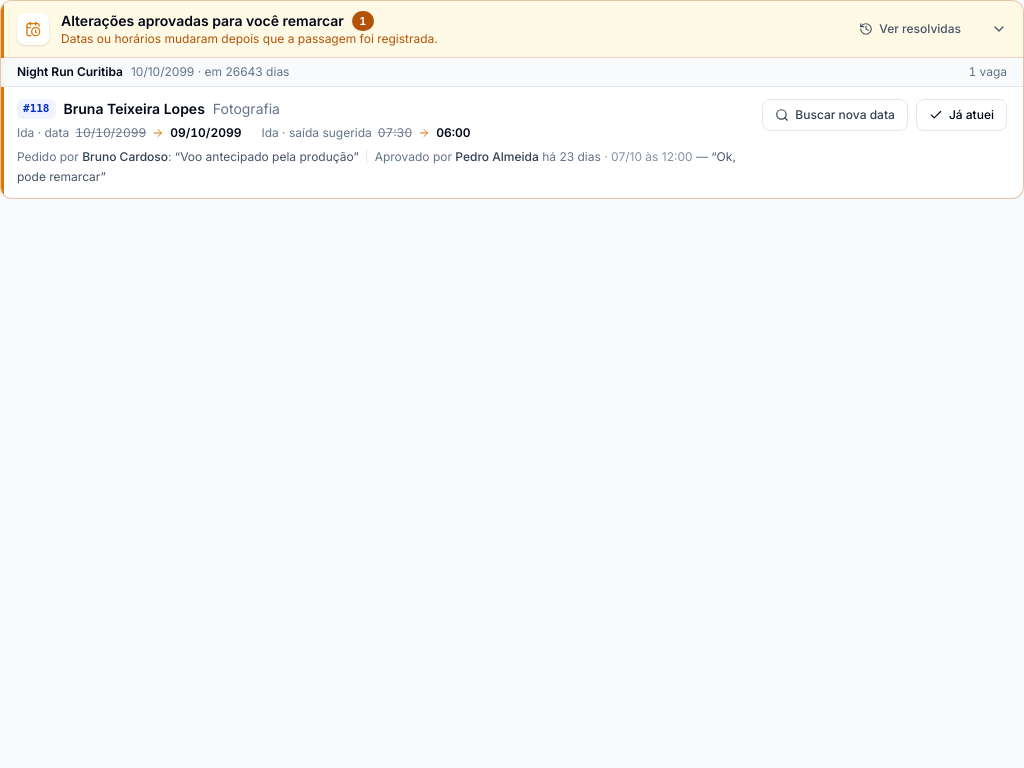
Test: BlocoDeAvisos (passagem) › 'Já atuei' com 409: mostra a mensagem do servidor (quem resolveu antes) e refaz a lista
This screenshot has width=1024, height=768.
What coordinates should you click on to do the following:
click the button "Já atuei"
I would click on:
 (961, 115)
Its box is [916,99,1007,131].
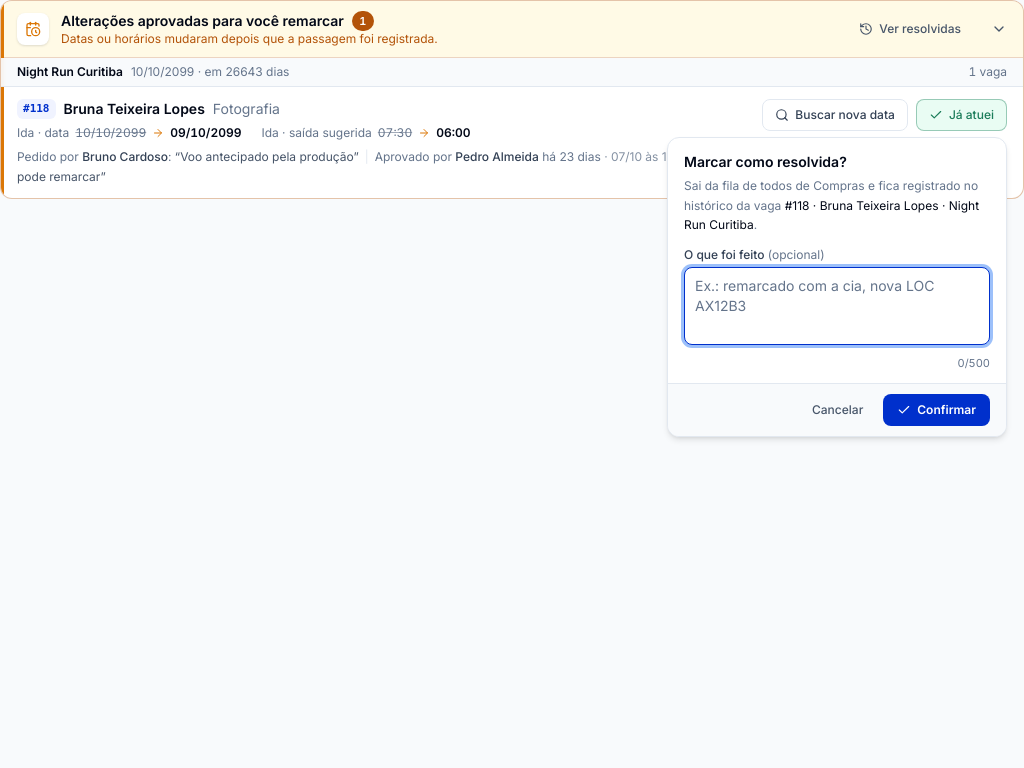
What coordinates should you click on to do the following:
click the button "Confirmar"
I would click on:
 (937, 410)
Its box is [883,394,990,426].
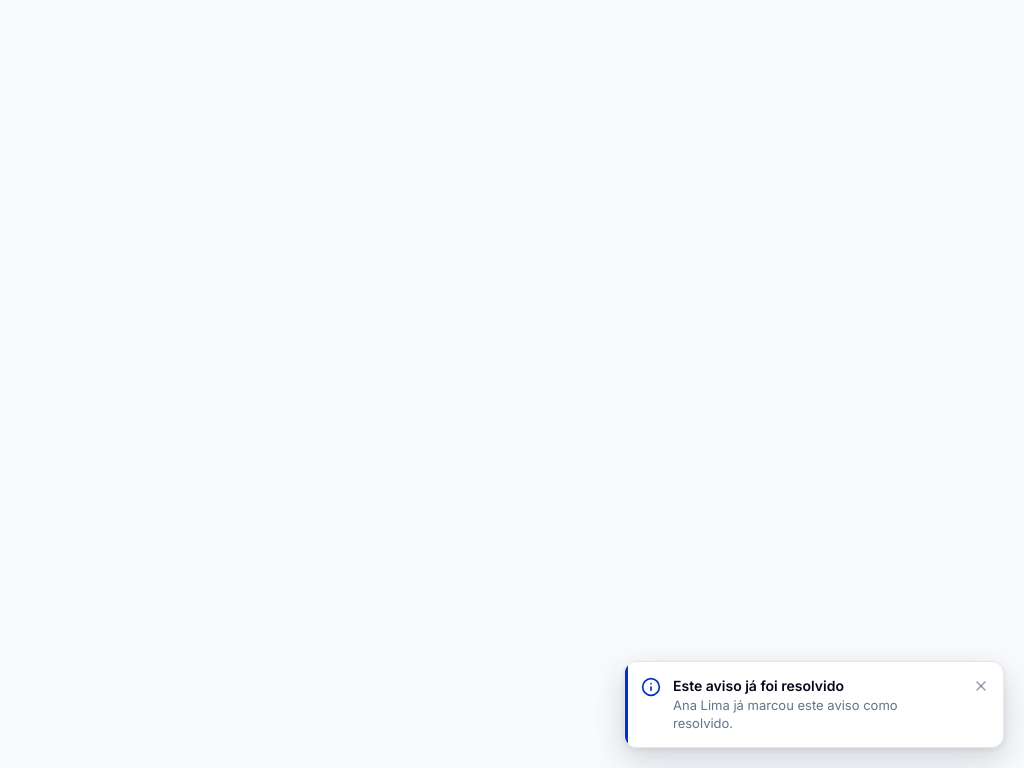
Now the heading "Alterações aprovadas" is gone
